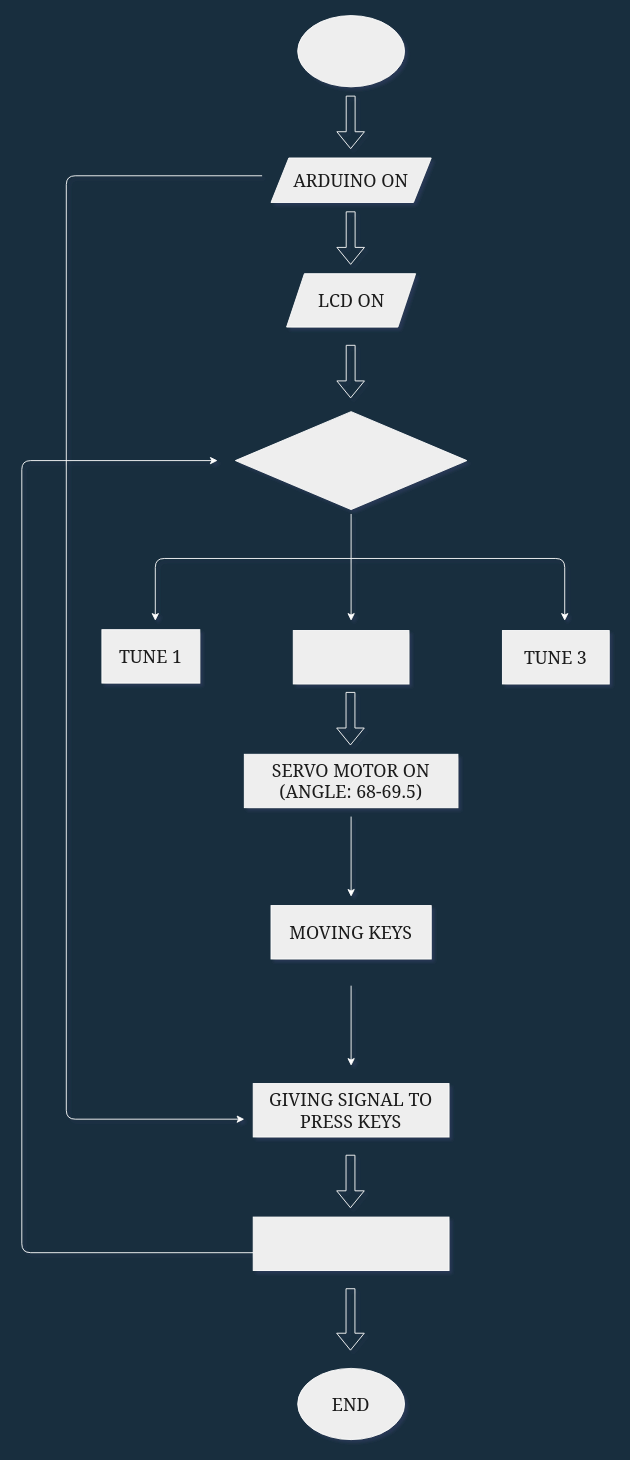
This 630x1460 diagram has some shape labels left out. The shapes that lost their labels are listed below. From the top down, each one's centre as x and y in pixels, then its label:
the point at 351,51: START
the point at 351,460: DISPLAY TUNES
the point at 350,657: TUNE 2
the point at 350,1243: KEY PRESSED BY FINGER
